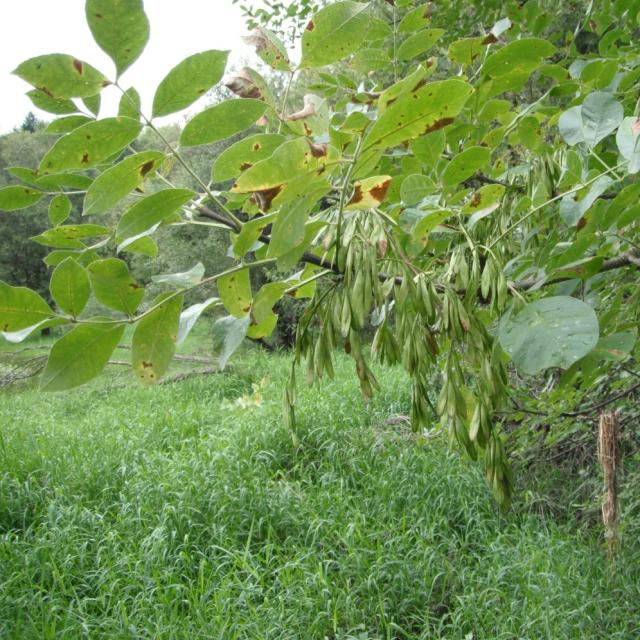Fraxinus latifolia: (0, 0, 537, 420)
